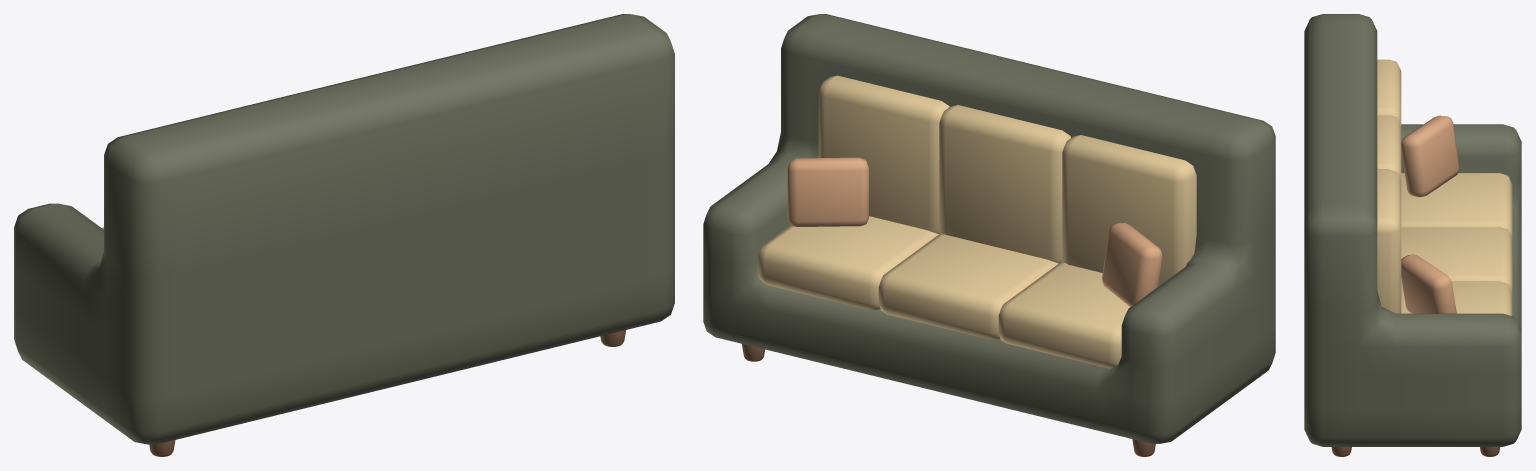
File: Sofa.fbx
3 renders of one model, left to right at view 1: azimuth 30°, elevation 25°; view 2: azimuth 150°, elevation 25°; view 3: azimuth 270°, elevation 25°, orthographic. The views are drawn at different scales.
Parts seen in each view (by area): view 1: Sofa; view 2: Sofa, Sofa_Back_Cushion(Middle), Sofa_Back_Cushion(Right), Sofa_Back_Cushion(Left), Sofa_Seat_Cushion(Middle), Sofa_Seat_Cushion(Left), Sofa_Seat_Cushion(rRght), Sofa_Throw_Pillow, Sofa_Throw_Pillow.001, Sofa_Legs; view 3: Sofa, Sofa_Seat_Cushion(rRght), Sofa_Seat_Cushion(Middle), Sofa_Throw_Pillow.001, Sofa_Back_Cushion(Left), Sofa_Throw_Pillow, Sofa_Seat_Cushion(Left), Sofa_Back_Cushion(Right), Sofa_Back_Cushion(Middle), Sofa_Legs.
Part boxes in pixels (x1,y1,x2,y2): Sofa: [14, 14, 674, 444]; Sofa: [703, 14, 1275, 443]; Sofa_Back_Cushion(Middle): [939, 105, 1070, 263]; Sofa_Back_Cushion(Right): [1062, 135, 1196, 286]; Sofa_Back_Cushion(Left): [818, 75, 949, 233]; Sofa_Seat_Cushion(Middle): [878, 234, 1058, 339]; Sofa_Seat_Cushion(Left): [758, 216, 938, 310]; Sofa_Seat_Cushion(rRght): [998, 262, 1129, 368]; Sofa_Throw_Pillow: [787, 157, 868, 226]; Sofa_Throw_Pillow.001: [1102, 223, 1162, 306]; Sofa_Legs: [742, 344, 1155, 456]; Sofa: [1304, 14, 1521, 446]; Sofa_Seat_Cushion(rRght): [1401, 173, 1512, 238]; Sofa_Seat_Cushion(Middle): [1401, 227, 1512, 292]; Sofa_Throw_Pillow.001: [1401, 115, 1459, 197]; Sofa_Back_Cushion(Left): [1377, 169, 1401, 313]; Sofa_Throw_Pillow: [1401, 254, 1456, 313]; Sofa_Seat_Cushion(Left): [1401, 281, 1512, 315]; Sofa_Back_Cushion(Right): [1377, 59, 1401, 125]; Sofa_Back_Cushion(Middle): [1377, 115, 1401, 180]; Sofa_Legs: [1331, 447, 1500, 456].
Size of the model in its own units: 413 by 229 by 178.
